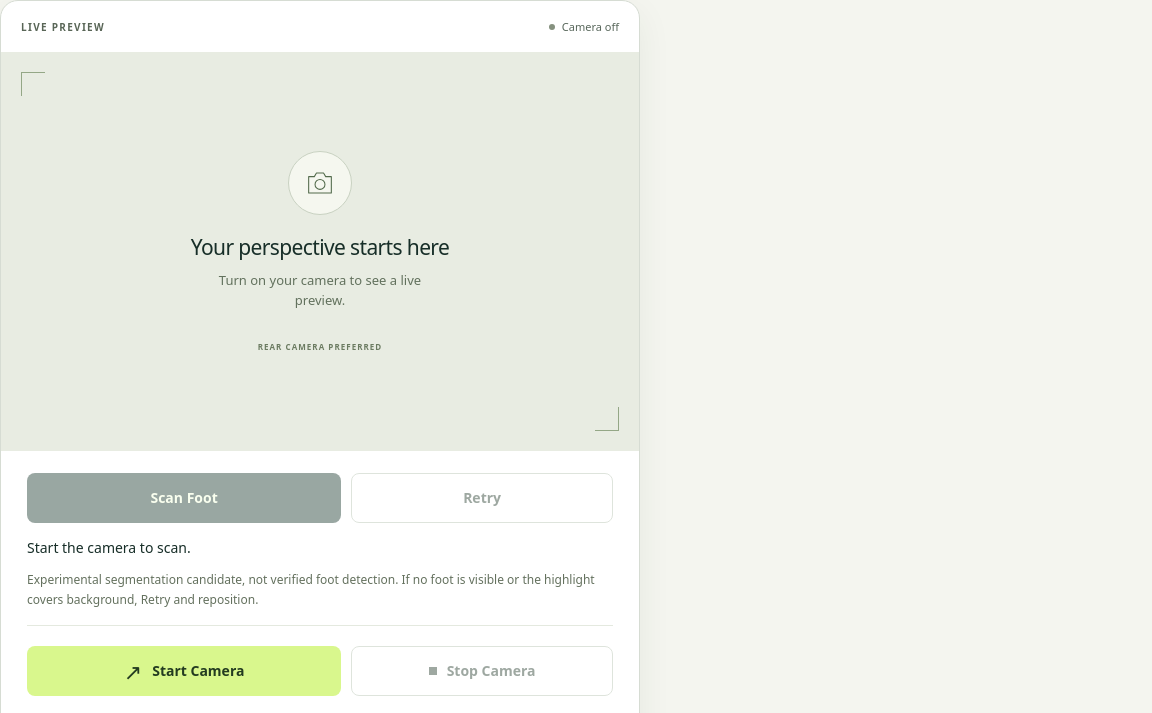
Test: CameraPreview › explains NotFoundError and permits retry
Click the button "↗ Start Camera" at x=184, y=671, box x1=27 y1=646 x2=341 y2=696
(page scrolled)
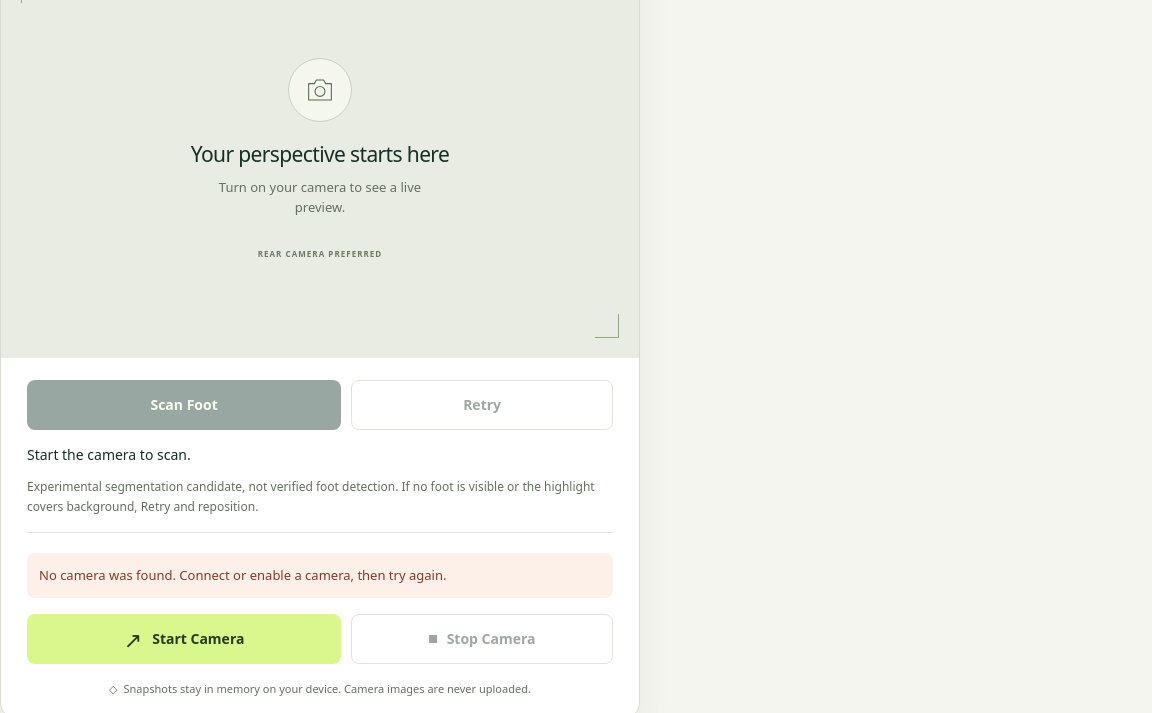
Expected: the button "↗ Start Camera" is enabled, x1=27 y1=614 x2=341 y2=664
Expected: the message "No camera was found. Connect or enable a camera, then try again." is shown, x1=27 y1=553 x2=613 y2=598
